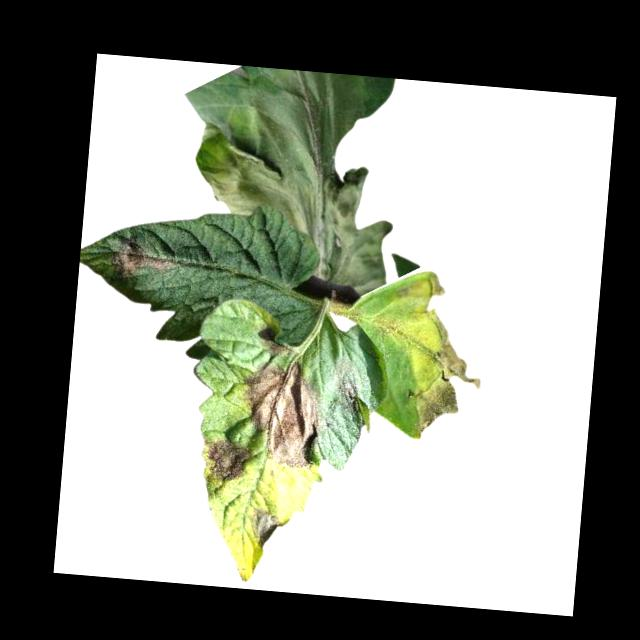Late_blight: (186, 99, 431, 293), (367, 272, 489, 443), (239, 355, 326, 470), (329, 357, 367, 426), (113, 239, 174, 280), (204, 437, 254, 486), (248, 504, 278, 547), (263, 340, 286, 356)
